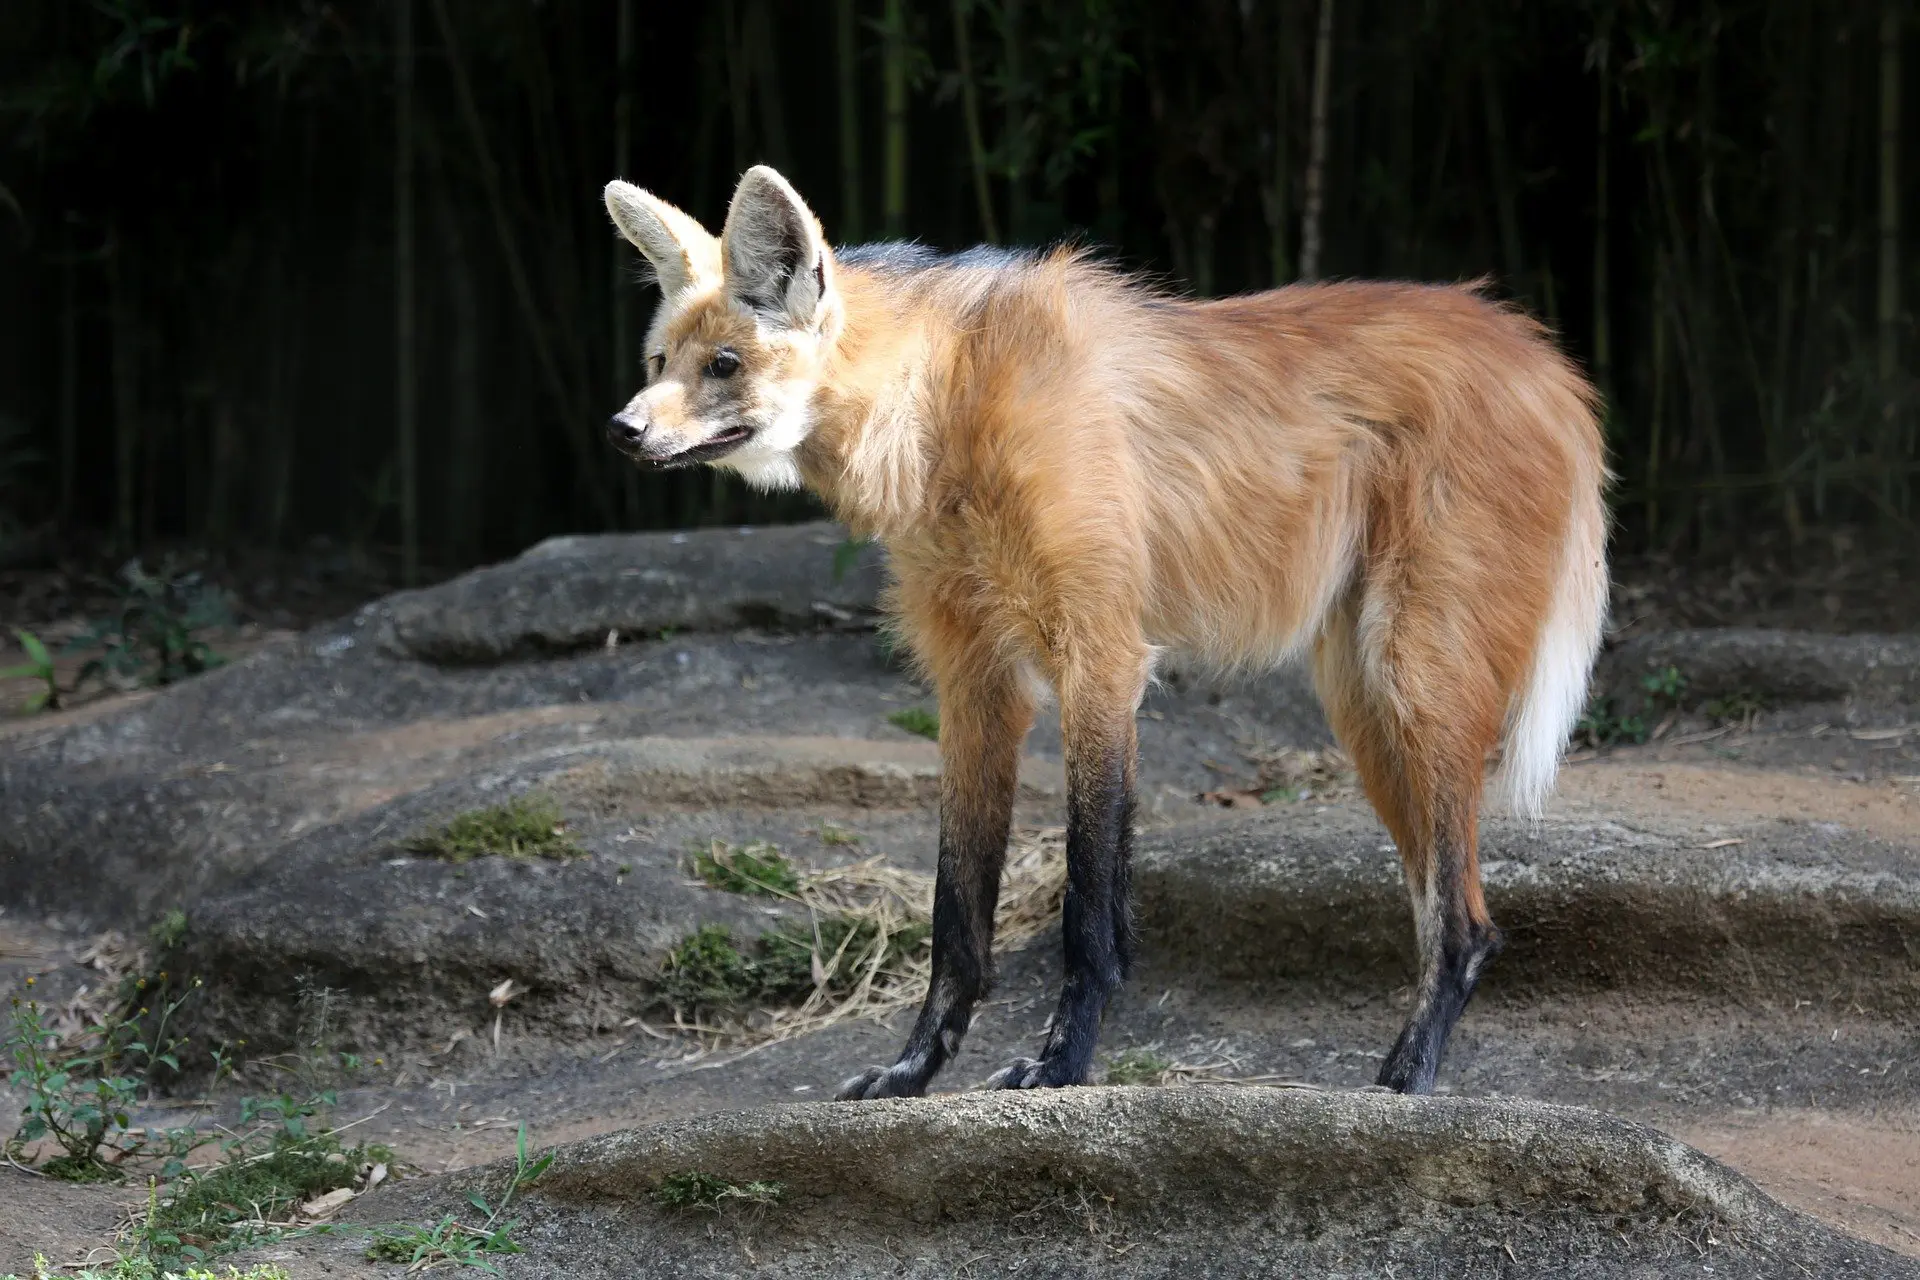LoboGuara: (550, 149, 1643, 1114)
